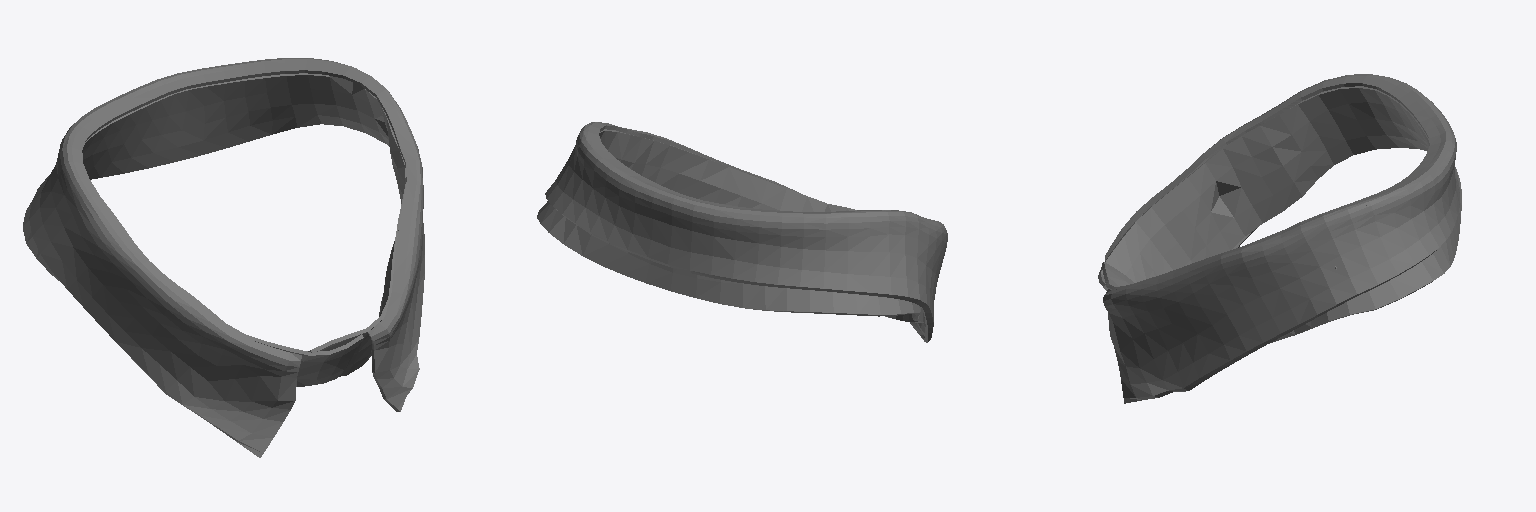
File: collar2.obj
3 renders of one model, left to right at view 1: azimuth 30°, elevation 25°; view 2: azimuth 150°, elevation 25°; view 3: azimuth 270°, elevation 25°, orthographic.
Parts seen in each view (by area): view 1: collar; view 2: collar; view 3: collar.
Boxes of the visible parts, x1,y1,x2,y2 form: collar: [23, 58, 424, 457]; collar: [537, 122, 947, 342]; collar: [1098, 74, 1461, 403].
Size of the model in its own units: 163 by 105 by 139.